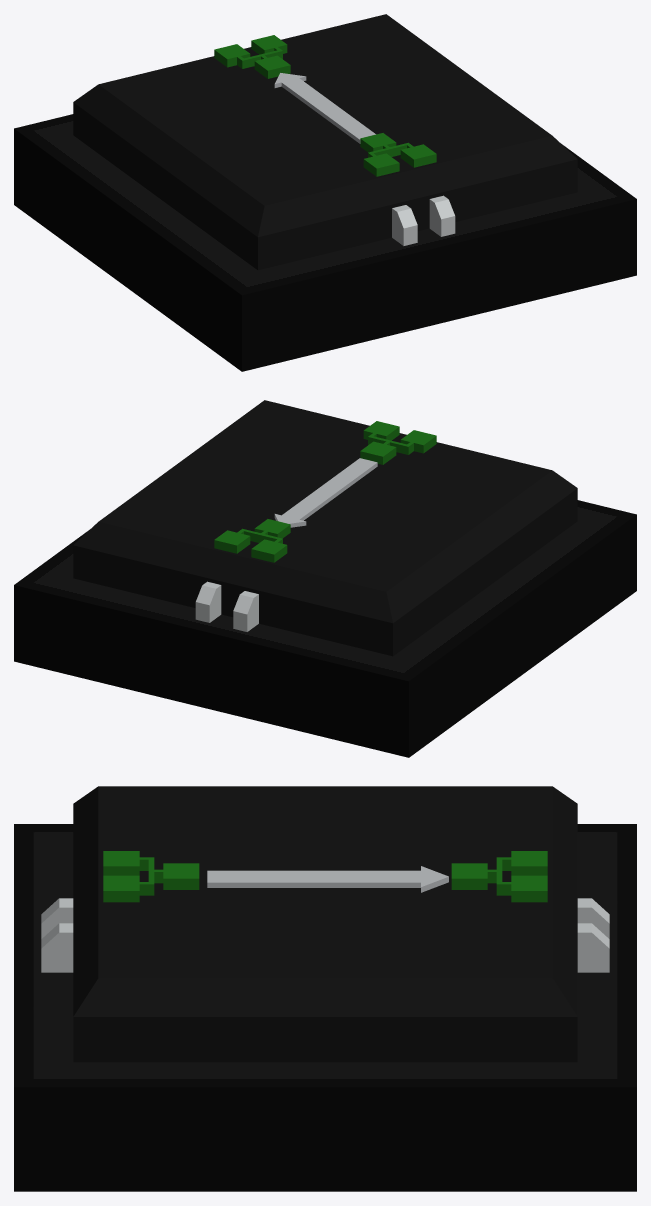
File: DataDiode.fbx
3 renders of one model, top to bottom at view 1: azimuth 30°, elevation 25°; view 2: azimuth 150°, elevation 25°; view 3: azimuth 270°, elevation 25°, orthographic. The views are drawn at different scales.
Visible parts, largest first — view 1: DataDiode; view 2: DataDiode; view 3: DataDiode.
Part boxes in pixels (x1,y1,x2,y2): DataDiode: [14, 14, 636, 371]; DataDiode: [14, 400, 636, 757]; DataDiode: [14, 786, 636, 1191].
Size of the model in its own units: 0.5 by 0.5 by 0.1675.
